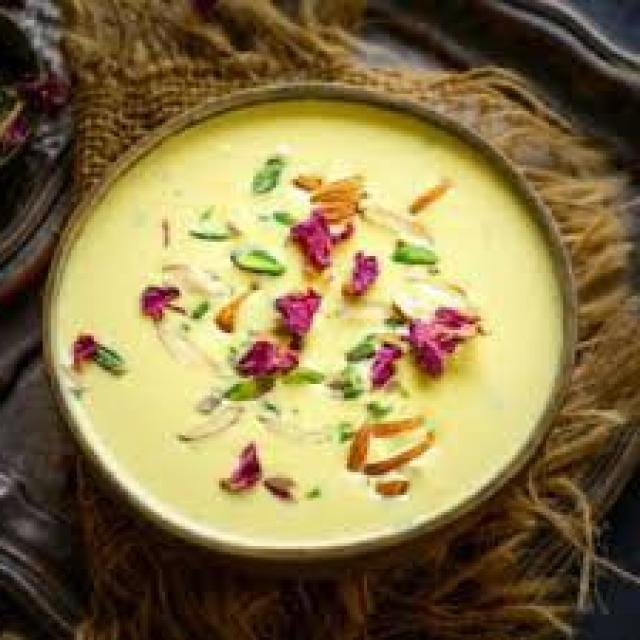Kheer: (49, 102, 562, 560)
